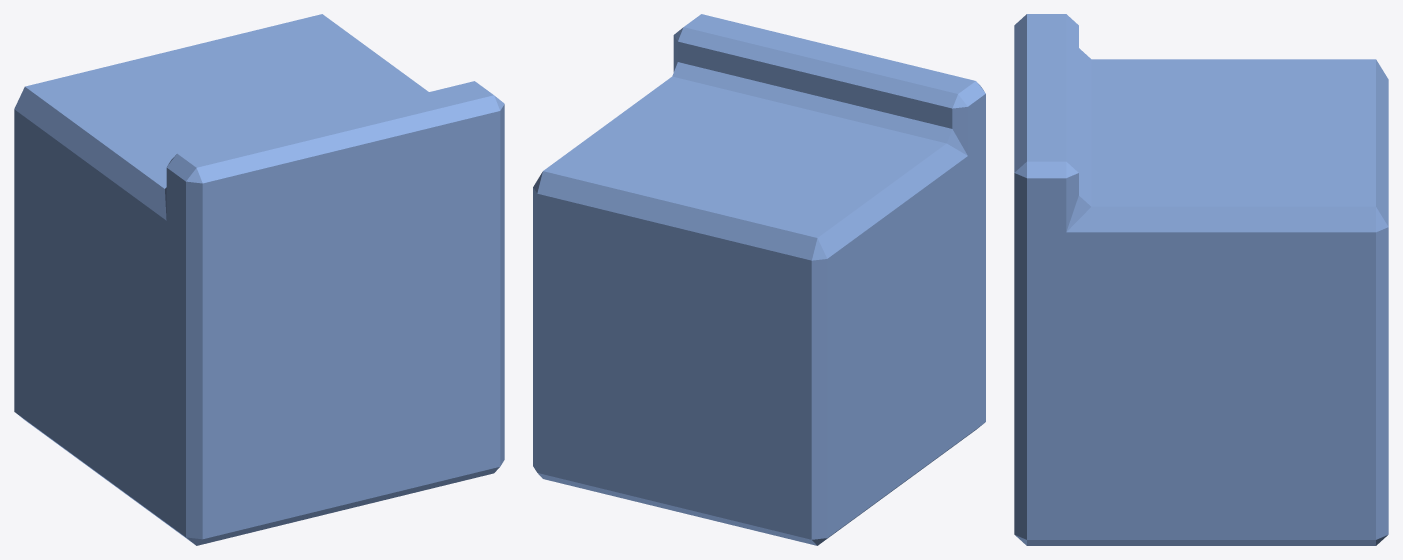
The picture shows the model from 3 angles, left to right: view 1: azimuth 30°, elevation 25°; view 2: azimuth 150°, elevation 25°; view 3: azimuth 270°, elevation 25°; orthographic projection. The views are drawn at different scales.
Visible parts, largest first — view 1: 7; view 2: 7; view 3: 7.
Boxes of the visible parts, x1=… form: 7: x1=14, y1=14, x2=504, y2=545; 7: x1=533, y1=14, x2=985, y2=545; 7: x1=1014, y1=14, x2=1388, y2=545.
Bounding box in the file's own units: 200 × 227 × 200.
